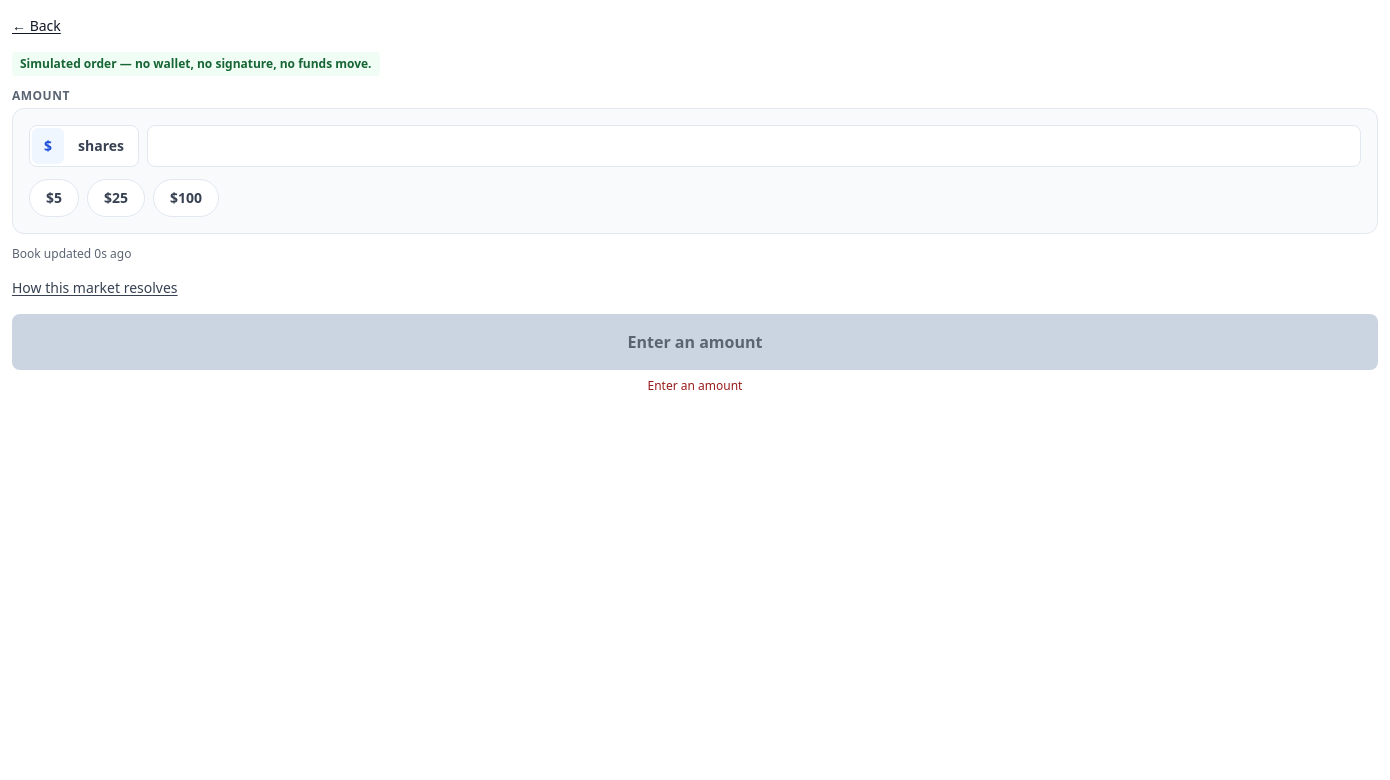
Test: OrderPreviewState › never shows a bare $0.00 fee line when the market genuinely charges nothing (zero is a fact, not an omission)
Type "30" into the number field. click: (754, 146)
box: [147, 125, 1361, 167]
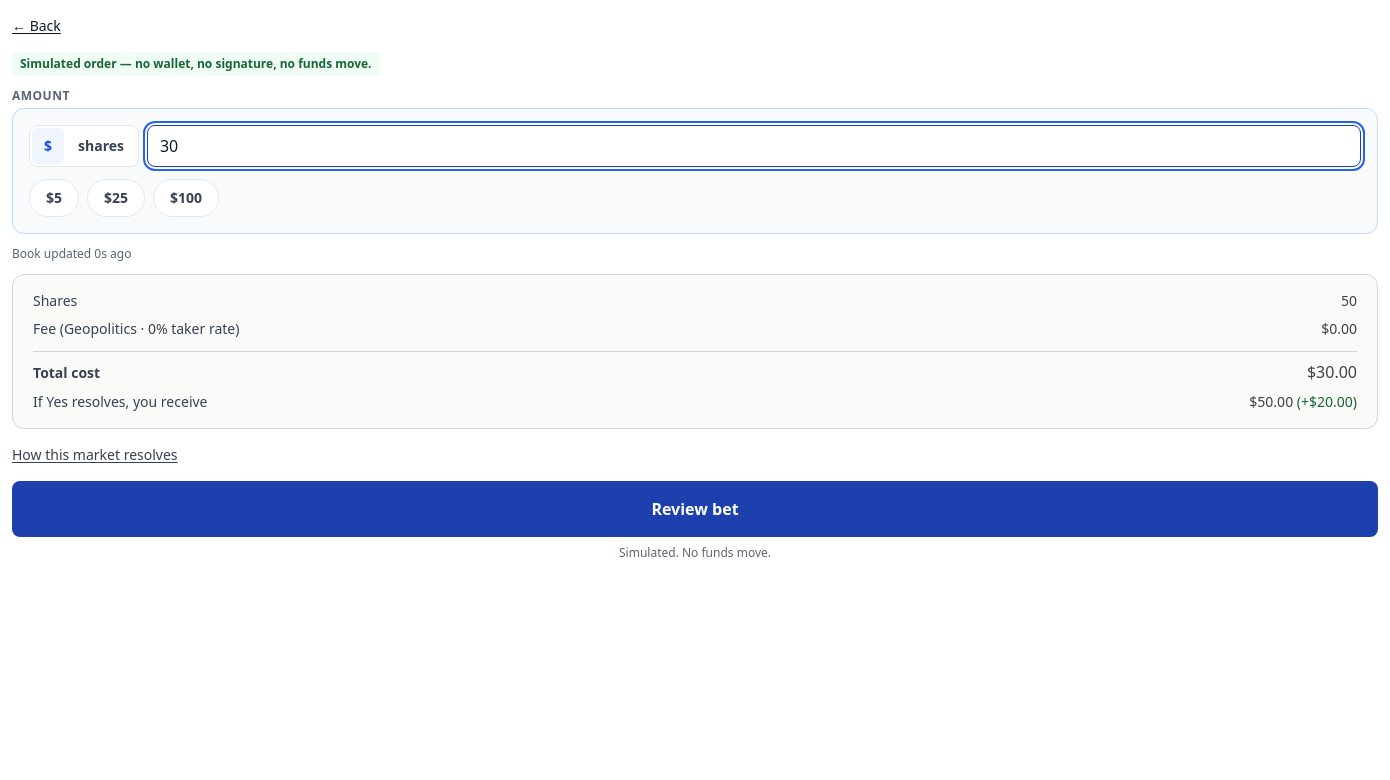
Expected: the text "$0.00" is shown, [1321, 319, 1357, 339]
Expected: the text "Fee (Geopolitics · 0% taker rate)" is shown, [33, 319, 239, 339]
